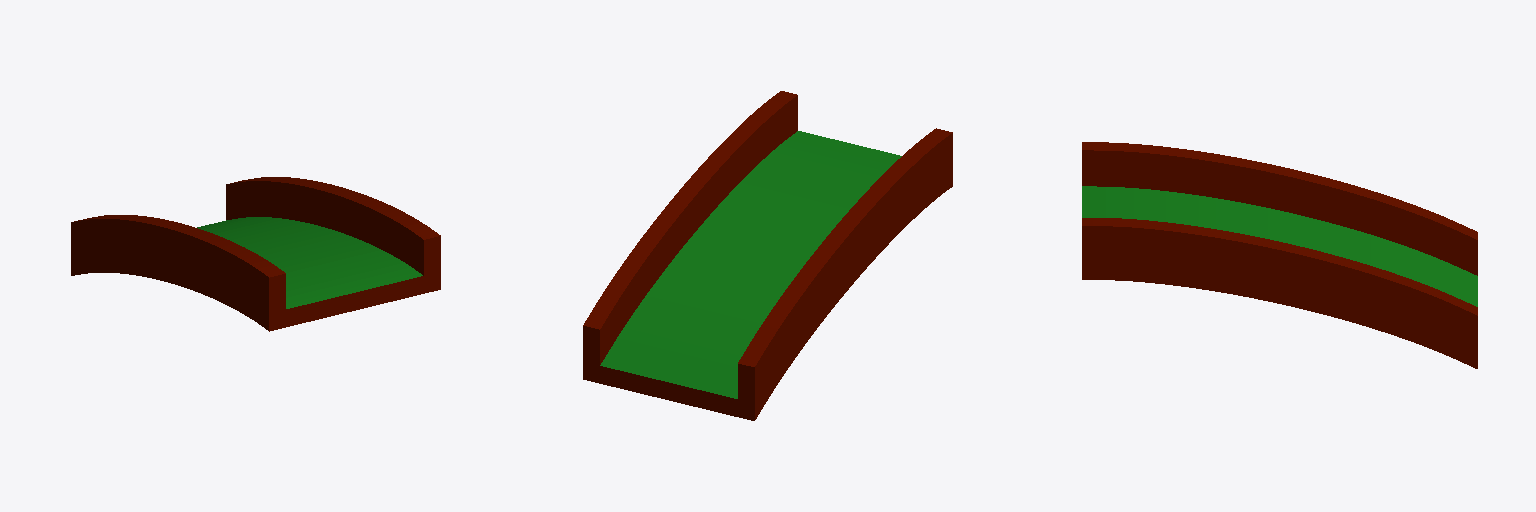
Rendered from RampTransitionDown.obj.
3 views of the same model, side by side, from view 1: azimuth 30°, elevation 25°; view 2: azimuth 150°, elevation 25°; view 3: azimuth 270°, elevation 25° (orthographic).
Parts seen in each view (by area): view 1: RampTransitionDown; view 2: RampTransitionDown; view 3: RampTransitionDown.
Part boxes in pixels (left/top/right/bottom): RampTransitionDown: left=71, top=177, right=440, bottom=331; RampTransitionDown: left=583, top=91, right=952, bottom=420; RampTransitionDown: left=1082, top=142, right=1477, bottom=368.
Bounding box in the file's own units: 2 × 1.6 × 4.